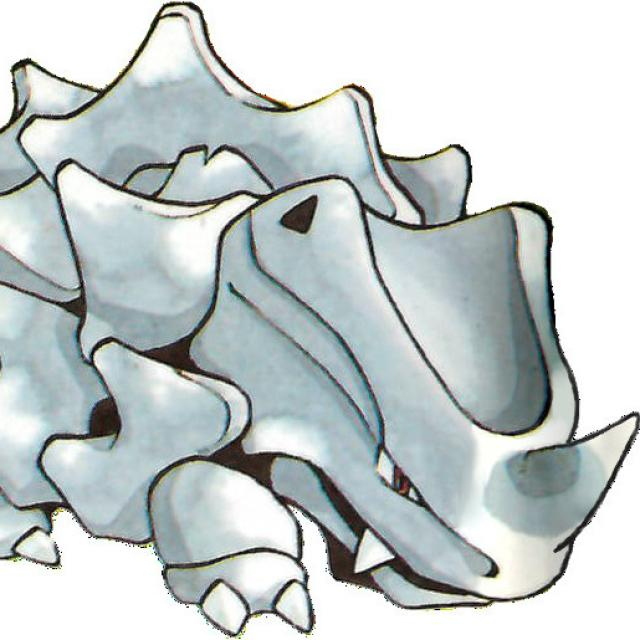Rhyhorn: (0, 0, 638, 640)
